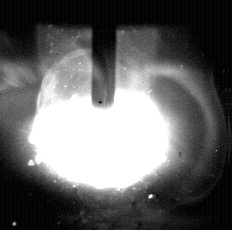arame: (92, 0, 117, 110)
poca: (27, 0, 171, 230)
